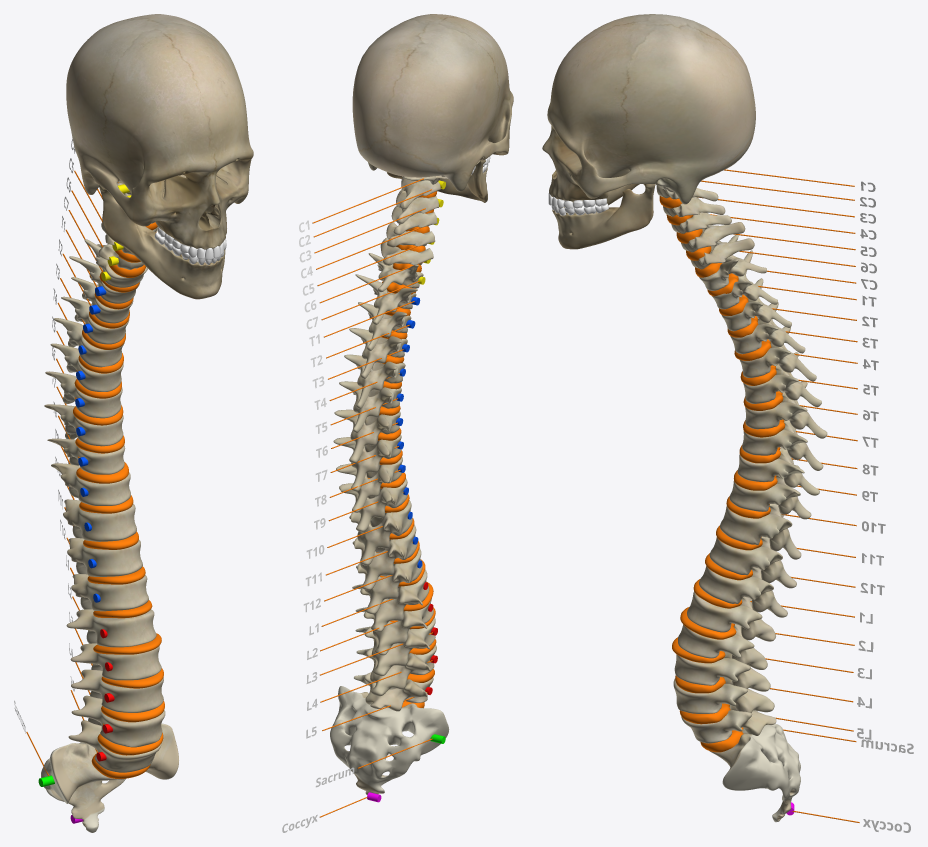
File: spine.glb
3 views of the same model, side by side, from view 1: azimuth 30°, elevation 25°; view 2: azimuth 150°, elevation 25°; view 3: azimuth 270°, elevation 25° (orthographic). The views are drawn at different scales.
Parts seen in each view (by area): view 1: Male_Skeletal_Skull_Geo_skull bones_0, Male_Skeletal_Intervertabral_Discs_Geo_discs_0, Male_Skeletal_Sacrum_Geo_bones sacrum_0, Male_Skeletal_Mandible_Geo_jawbones_0, Male_Skeletal_L01_Geo_bones back_0, Male_Skeletal_T10_Geo_bones back_0, Male_Skeletal_L03_Geo_bones back_0, Male_Skeletal_L04_Geo_bones back_0, Male_Skeletal_T12_Geo_bones back_0, Male_Skeletal_T11_Geo_bones back_0, Male_Skeletal_L02_Geo_bones back_0, Male_Skeletal_T09_Geo_bones back_0 (+10 smaller); view 2: Male_Skeletal_Skull_Geo_skull bones_0, Male_Skeletal_Sacrum_Geo_bones sacrum_0, Male_Skeletal_Intervertabral_Discs_Geo_discs_0, Male_Skeletal_T10_Geo_bones back_0, Male_Skeletal_L03_Geo_bones back_0, Male_Skeletal_T11_Geo_bones back_0, Male_Skeletal_L04_Geo_bones back_0, Male_Skeletal_L01_Geo_bones back_0, Male_Skeletal_T12_Geo_bones back_0, Male_Skeletal_T06_Geo_bones back_0, Male_Skeletal_L02_Geo_bones back_0, Male_Skeletal_L05_Geo_bones back_0 (+15 smaller); view 3: Male_Skeletal_Skull_Geo_skull bones_0, Male_Skeletal_Intervertabral_Discs_Geo_discs_0, Male_Skeletal_Sacrum_Geo_bones sacrum_0, Male_Skeletal_Mandible_Geo_jawbones_0, Male_Skeletal_L01_Geo_bones back_0, Male_Skeletal_T10_Geo_bones back_0, Male_Skeletal_T11_Geo_bones back_0, Male_Skeletal_T12_Geo_bones back_0, Male_Skeletal_L04_Geo_bones back_0, Male_Skeletal_L03_Geo_bones back_0, Male_Skeletal_L02_Geo_bones back_0, Male_Skeletal_T09_Geo_bones back_0 (+14 smaller).
Boxes of the visible parts, bbox=[...] form: Male_Skeletal_Skull_Geo_skull bones_0: bbox=[66, 14, 253, 249]; Male_Skeletal_Intervertabral_Discs_Geo_discs_0: bbox=[73, 222, 164, 778]; Male_Skeletal_Sacrum_Geo_bones sacrum_0: bbox=[41, 723, 178, 832]; Male_Skeletal_Mandible_Geo_jawbones_0: bbox=[99, 185, 225, 299]; Male_Skeletal_L01_Geo_bones back_0: bbox=[66, 609, 156, 647]; Male_Skeletal_T10_Geo_bones back_0: bbox=[63, 499, 136, 541]; Male_Skeletal_L03_Geo_bones back_0: bbox=[71, 669, 163, 712]; Male_Skeletal_L04_Geo_bones back_0: bbox=[71, 695, 165, 747]; Male_Skeletal_T12_Geo_bones back_0: bbox=[71, 574, 148, 611]; Male_Skeletal_T11_Geo_bones back_0: bbox=[67, 538, 142, 576]; Male_Skeletal_L02_Geo_bones back_0: bbox=[70, 643, 161, 680]; Male_Skeletal_T09_Geo_bones back_0: bbox=[51, 463, 130, 505]; Male_Skeletal_Skull_Geo_skull bones_0: bbox=[352, 14, 513, 191]; Male_Skeletal_Sacrum_Geo_bones sacrum_0: bbox=[330, 686, 449, 794]; Male_Skeletal_Intervertabral_Discs_Geo_discs_0: bbox=[368, 191, 437, 708]; Male_Skeletal_T10_Geo_bones back_0: bbox=[349, 500, 412, 565]; Male_Skeletal_L03_Geo_bones back_0: bbox=[355, 617, 435, 676]; Male_Skeletal_T11_Geo_bones back_0: bbox=[352, 525, 417, 590]; Male_Skeletal_L04_Geo_bones back_0: bbox=[356, 645, 436, 696]; Male_Skeletal_L01_Geo_bones back_0: bbox=[352, 569, 429, 631]; Male_Skeletal_T12_Geo_bones back_0: bbox=[356, 548, 422, 614]; Male_Skeletal_T06_Geo_bones back_0: bbox=[334, 409, 400, 463]; Male_Skeletal_L02_Geo_bones back_0: bbox=[355, 598, 433, 655]; Male_Skeletal_L05_Geo_bones back_0: bbox=[354, 672, 433, 711]; Male_Skeletal_Skull_Geo_skull bones_0: bbox=[542, 14, 755, 204]; Male_Skeletal_Intervertabral_Discs_Geo_discs_0: bbox=[659, 196, 784, 752]; Male_Skeletal_Sacrum_Geo_bones sacrum_0: bbox=[709, 710, 800, 822]; Male_Skeletal_Mandible_Geo_jawbones_0: bbox=[552, 184, 655, 249]; Male_Skeletal_L01_Geo_bones back_0: bbox=[687, 591, 775, 641]; Male_Skeletal_T10_Geo_bones back_0: bbox=[720, 504, 801, 559]; Male_Skeletal_T11_Geo_bones back_0: bbox=[709, 536, 796, 588]; Male_Skeletal_T12_Geo_bones back_0: bbox=[699, 566, 787, 617]; Male_Skeletal_L04_Geo_bones back_0: bbox=[673, 677, 774, 713]; Male_Skeletal_L03_Geo_bones back_0: bbox=[674, 652, 770, 691]; Male_Skeletal_L02_Geo_bones back_0: bbox=[678, 624, 767, 669]; Male_Skeletal_T09_Geo_bones back_0: bbox=[729, 465, 811, 519].
Size of the model in its own units: 13.87 by 81.66 by 34.39.
Materials: 12 (4 with a texture image).
